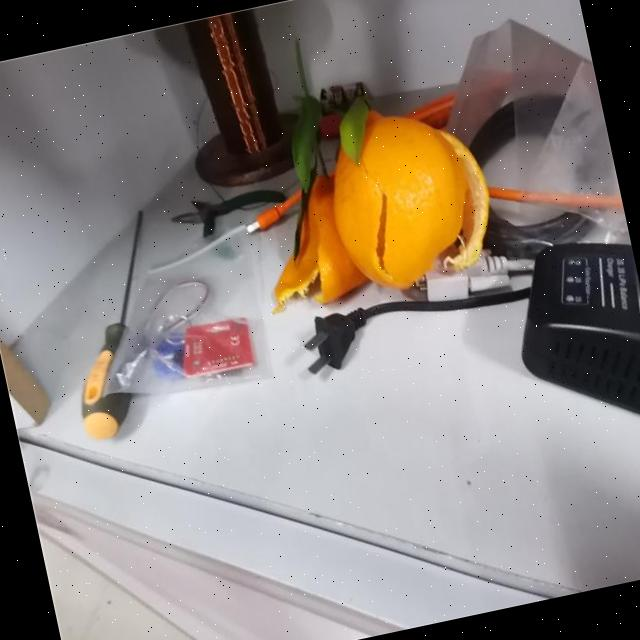orange-peel: (312, 92, 486, 300)
